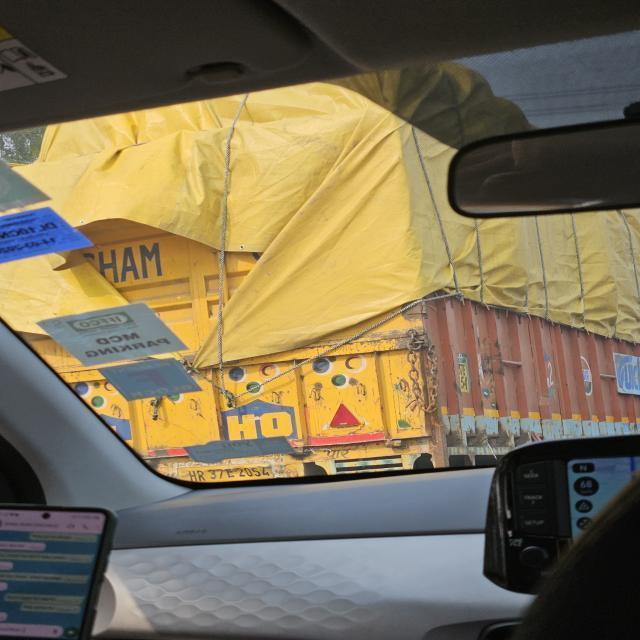covered: (16, 82, 621, 450)
